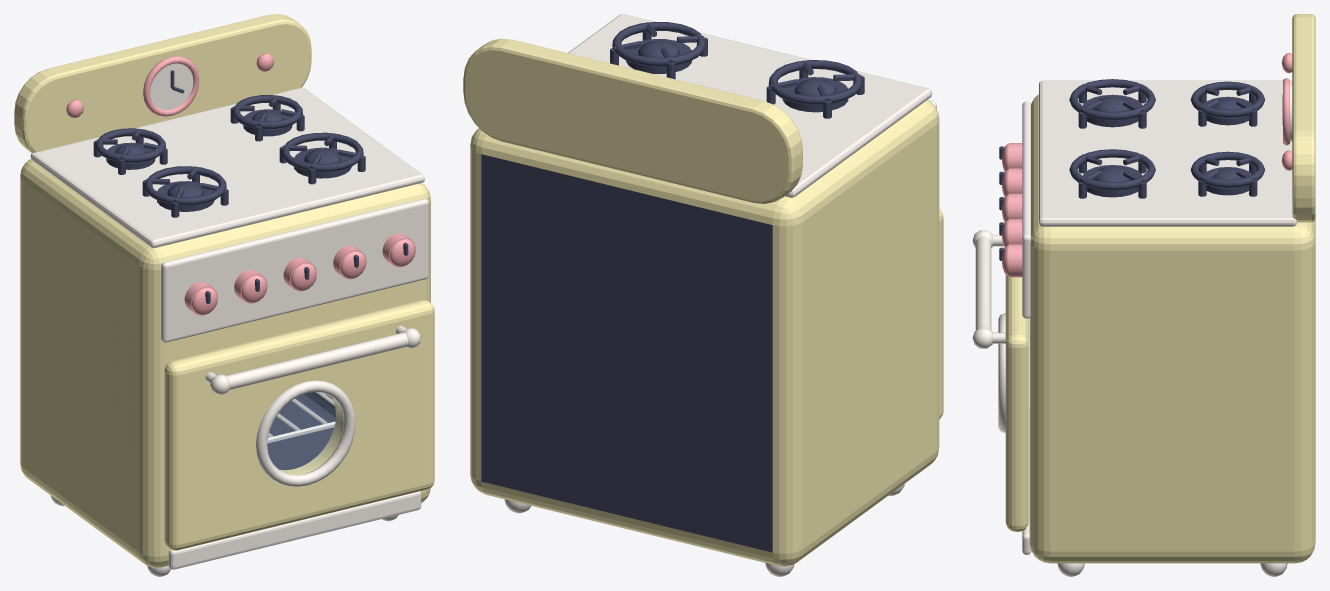
Rendered from forno-retro.glb.
3 renders of one model, left to right at view 1: azimuth 30°, elevation 25°; view 2: azimuth 150°, elevation 25°; view 3: azimuth 270°, elevation 25°, orthographic. The views are drawn at different scales.
Parts seen in each view (by area): view 1: forno, porta; view 2: forno, porta; view 3: forno, porta.
Boxes of the visible parts, x1,y1,x2,y2 form: forno: (14,14,430,576); porta: (164,300,434,550); forno: (463,14,939,576); porta: (939,209,943,419); forno: (999,14,1315,576); porta: (972,230,1028,531).
Size of the model in its own units: 0.76 by 1.06 by 0.744.
